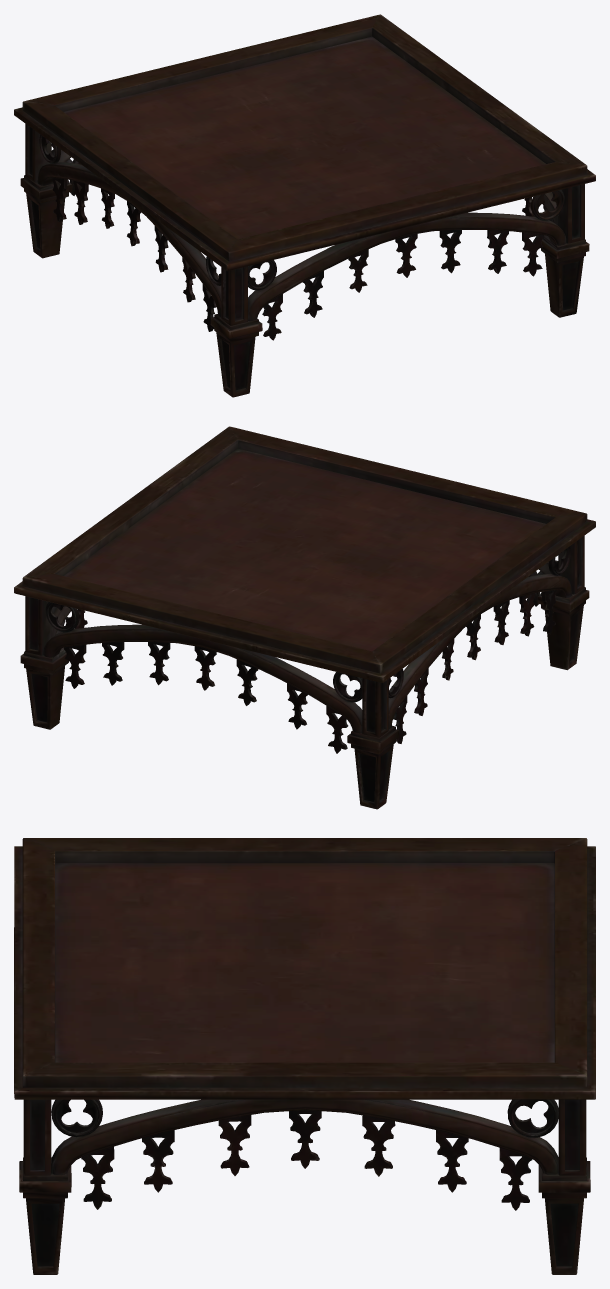
Rendered from gothic_coffee_table.glb.
The picture shows the model from 3 angles, top to bottom: view 1: azimuth 30°, elevation 25°; view 2: azimuth 150°, elevation 25°; view 3: azimuth 270°, elevation 25°; orthographic projection. The views are drawn at different scales.
Visible parts, largest first — view 1: gothic_coffee_table; view 2: gothic_coffee_table; view 3: gothic_coffee_table.
Part boxes in pixels (bbox=[...]): gothic_coffee_table: bbox=[14, 14, 595, 397]; gothic_coffee_table: bbox=[14, 426, 595, 809]; gothic_coffee_table: bbox=[14, 838, 595, 1274].
Bounding box in the file's own units: 1.44 × 0.5588 × 1.44.
Materials: 1 (1 with a texture image).
